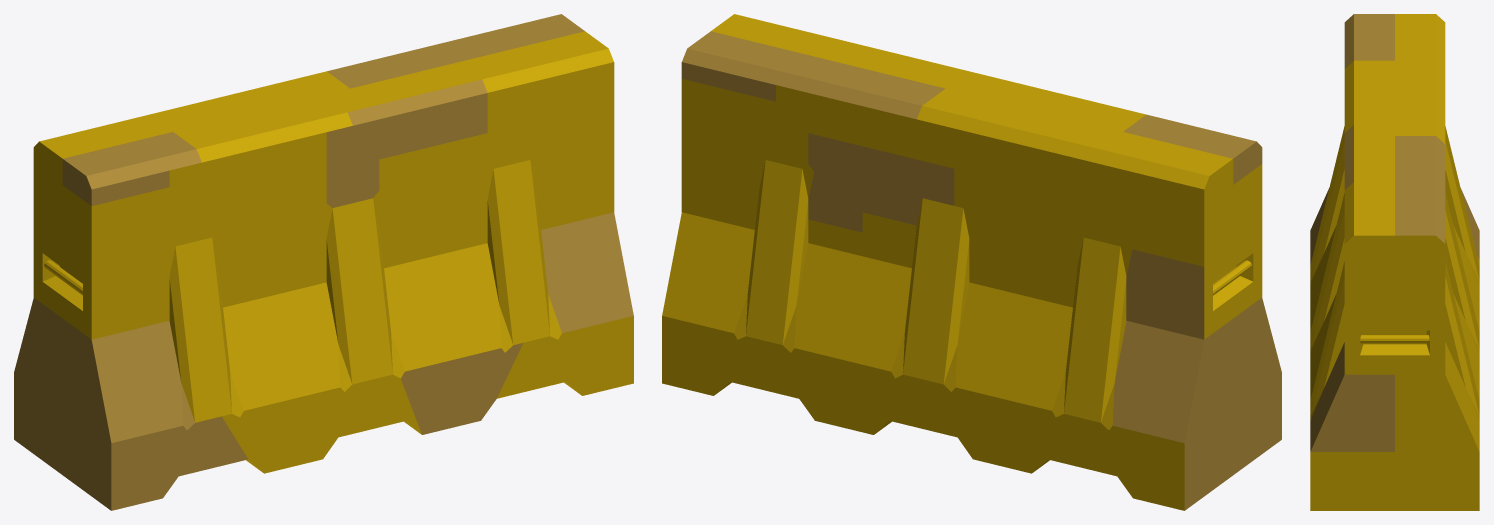
Rendered from barrier_plastic.glb.
The picture shows the model from 3 angles, left to right: view 1: azimuth 30°, elevation 25°; view 2: azimuth 150°, elevation 25°; view 3: azimuth 270°, elevation 25°; orthographic projection. The views are drawn at different scales.
Visible parts, largest first — view 1: PlasticBarrier; view 2: PlasticBarrier; view 3: PlasticBarrier.
Part boxes in pixels (<box>): PlasticBarrier: <box>14,14,633,510</box>; PlasticBarrier: <box>662,14,1281,510</box>; PlasticBarrier: <box>1310,14,1479,510</box>.
Size of the model in its own units: 1.04 by 0.5995 by 0.3339.
1 material, 1 textured.
